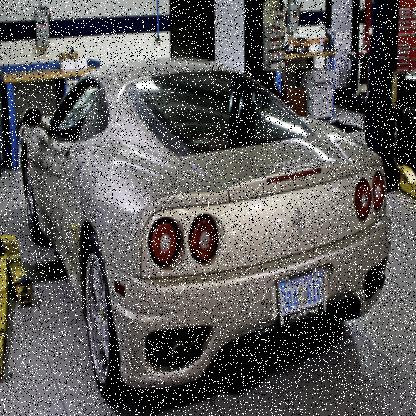licence: (278, 280, 326, 310)
